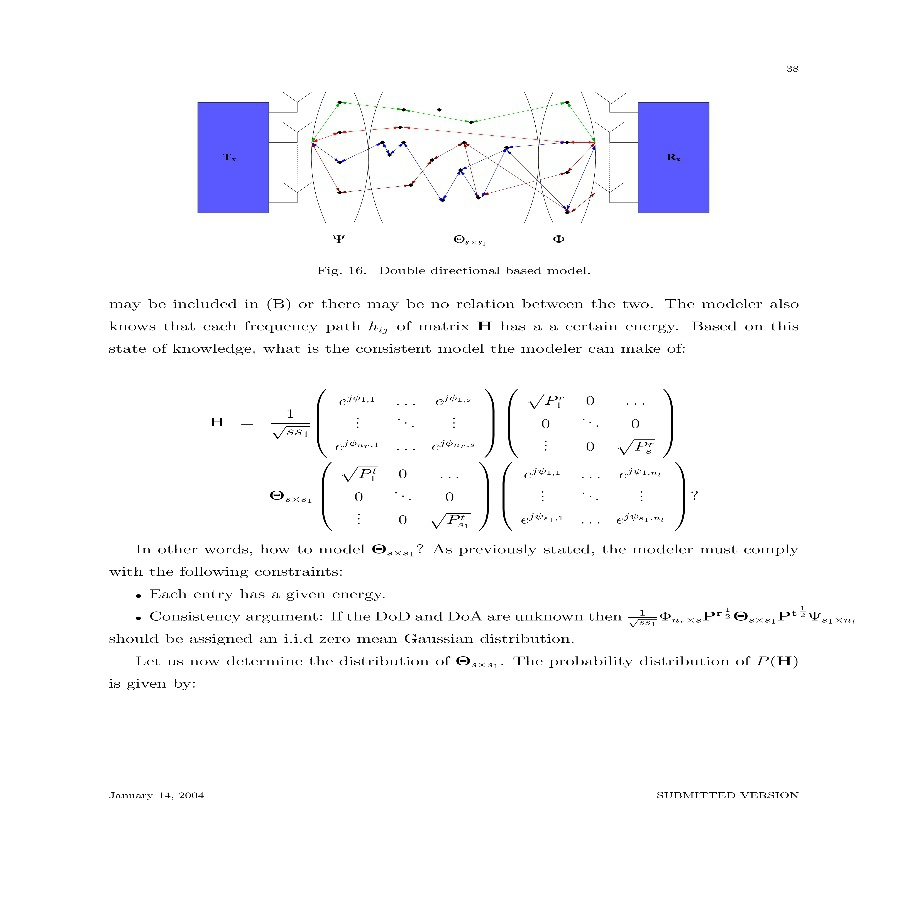eq: (209, 386, 691, 541)
